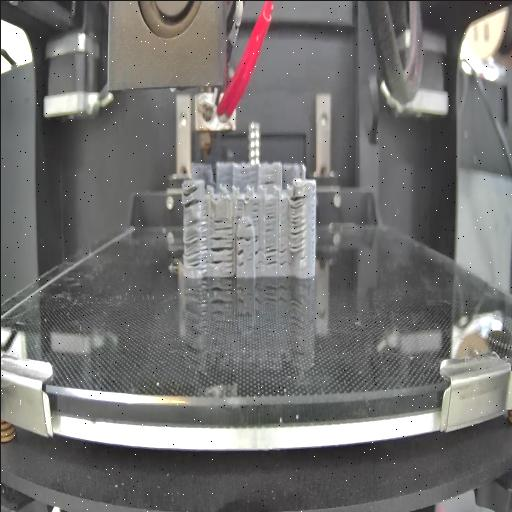cracks: (288, 193, 306, 251), (184, 234, 208, 272), (236, 235, 262, 267), (209, 236, 233, 264), (180, 184, 202, 206), (183, 214, 207, 232), (264, 205, 276, 234), (262, 243, 276, 266), (212, 216, 232, 232), (278, 243, 288, 265), (250, 200, 260, 220), (310, 185, 314, 232), (259, 178, 275, 186), (236, 197, 242, 210), (244, 221, 252, 227), (234, 214, 242, 220), (244, 194, 248, 203)
